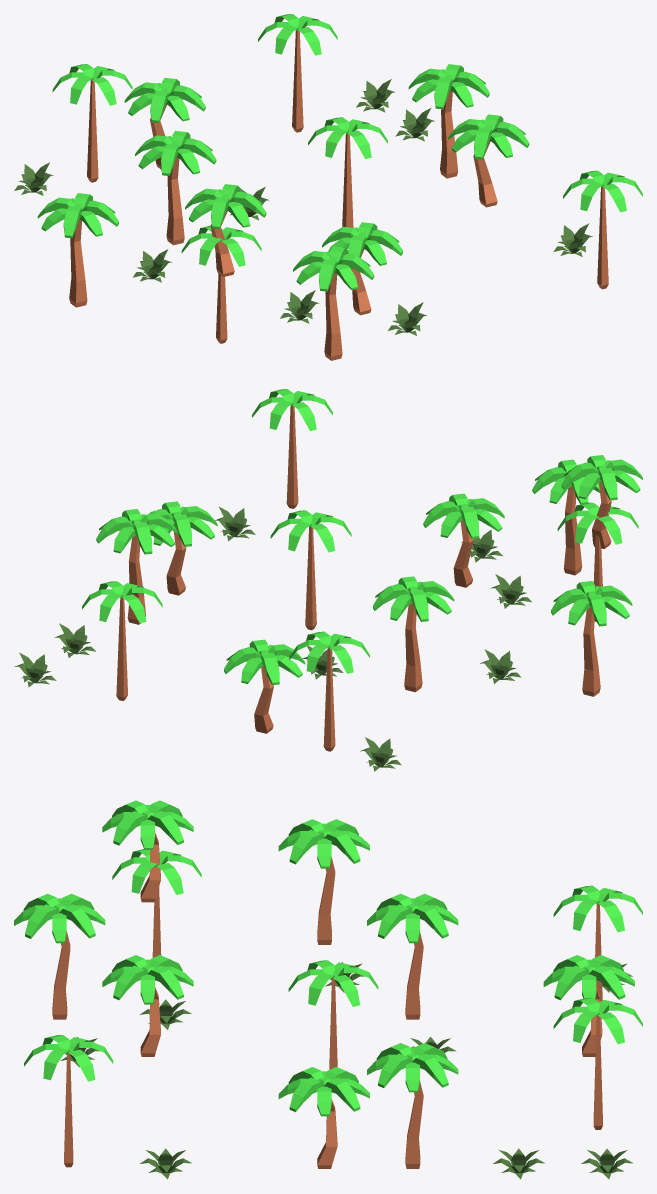
Rendered from desert_foret.glb.
3 views of the same model, one above another, from view 1: azimuth 30°, elevation 25°; view 2: azimuth 150°, elevation 25°; view 3: azimuth 270°, elevation 25° (orthographic). The views are drawn at different scales.
Visible parts, largest first — view 1: mergedBlocks(Clone); view 2: mergedBlocks(Clone); view 3: mergedBlocks(Clone).
Part boxes in pixels (left/top/right/bottom): mergedBlocks(Clone): left=14, top=14, right=642, bottom=360; mergedBlocks(Clone): left=14, top=389, right=642, bottom=771; mergedBlocks(Clone): left=14, top=800, right=642, bottom=1179.
Size of the model in its own units: 7.03 by 2.12 by 7.13.
1 material, 1 textured.
